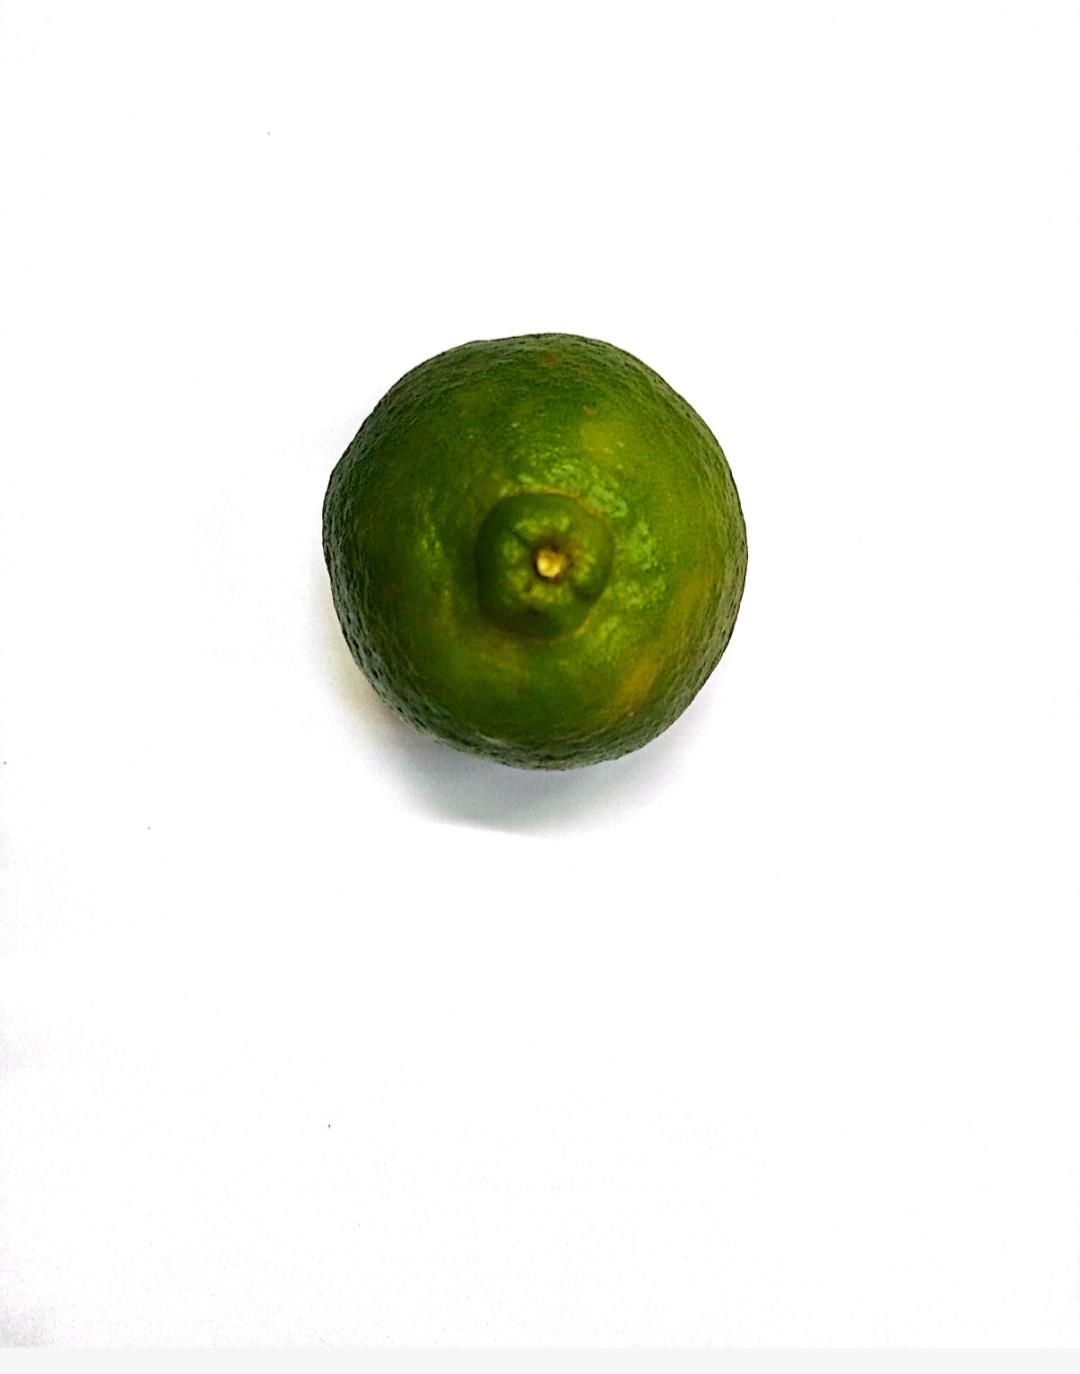Unripe: (324, 327, 740, 773)
